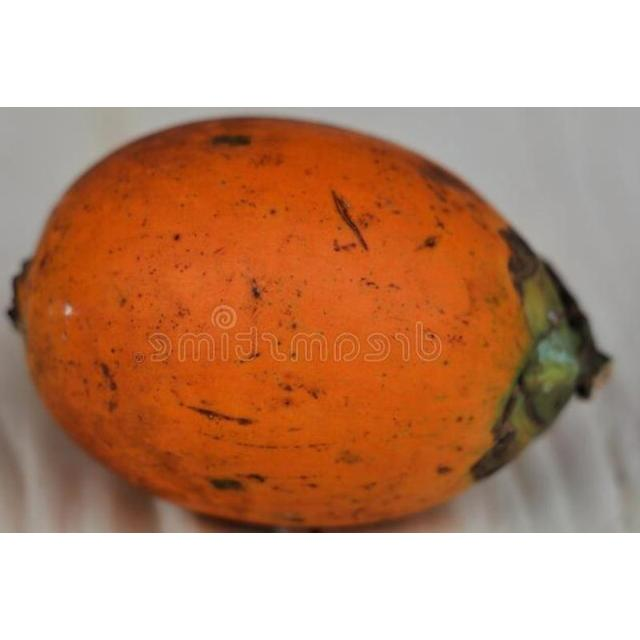good: (13, 117, 609, 532)
